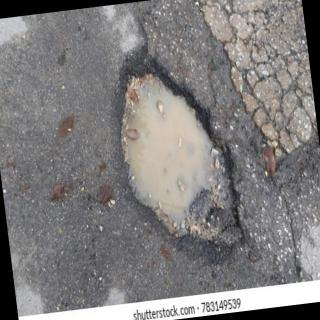pothole: (121, 58, 242, 240)
